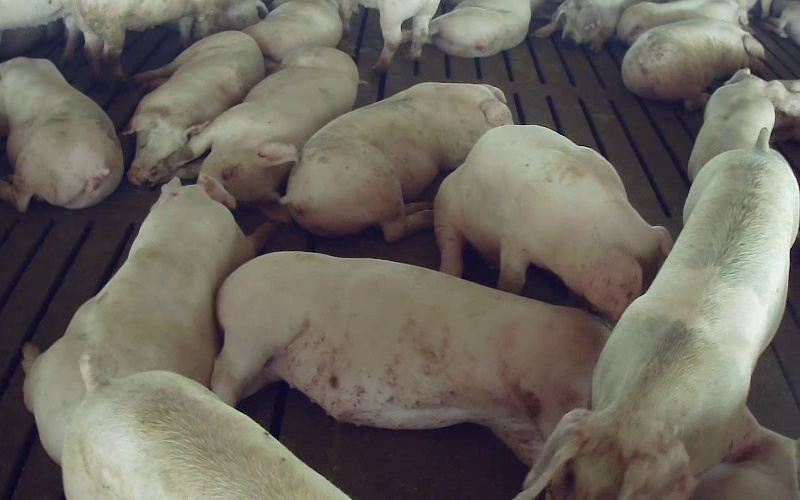pig: (521, 128, 799, 499), (211, 252, 608, 463), (23, 176, 269, 462), (434, 125, 671, 319), (62, 357, 348, 499), (282, 83, 512, 241), (150, 48, 358, 218), (126, 31, 264, 184), (622, 18, 763, 109), (72, 0, 216, 78), (688, 69, 786, 180), (243, 0, 342, 62), (617, 0, 748, 45), (429, 0, 530, 57), (535, 0, 638, 51)
